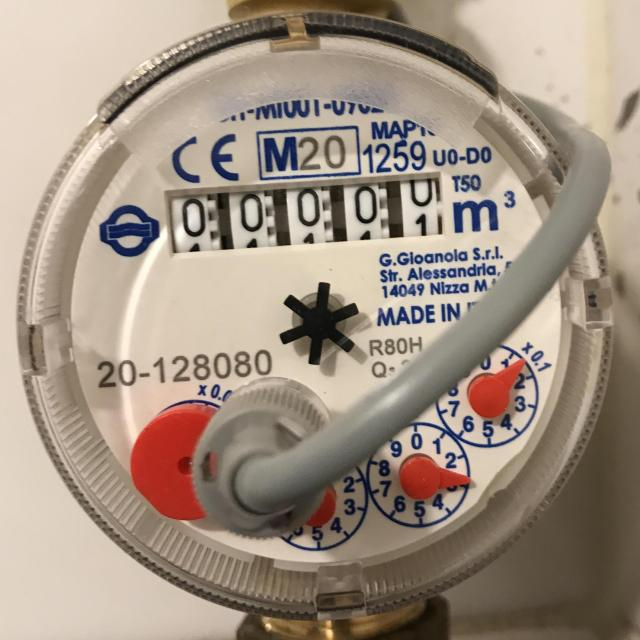gaz_meter: (26, 14, 619, 616)
indication: (167, 179, 445, 253)
